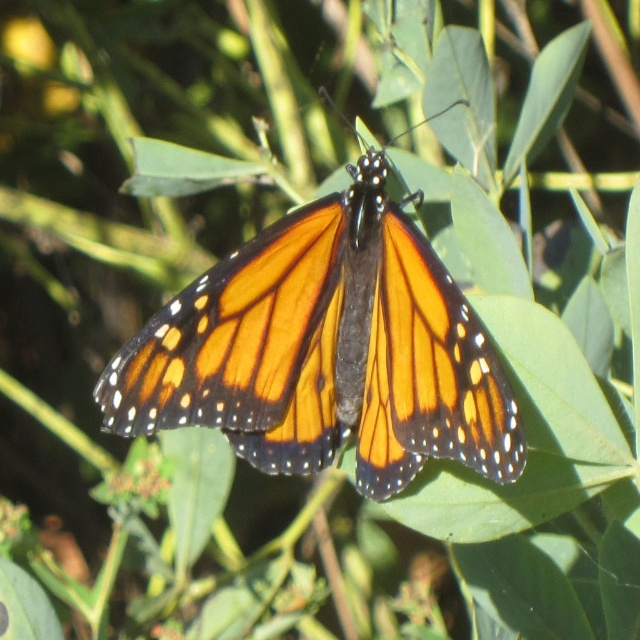Moths and butterflies: (91, 80, 532, 504)
